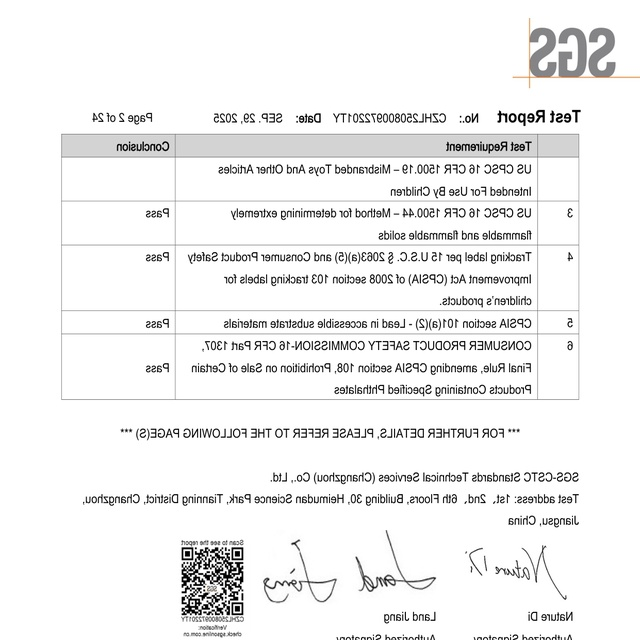sgs: (530, 26, 615, 78)
